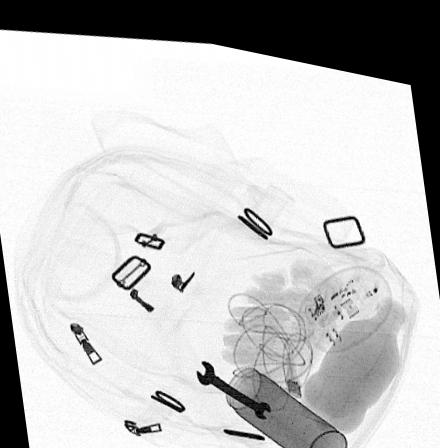Wrench: (193, 348, 272, 409)
